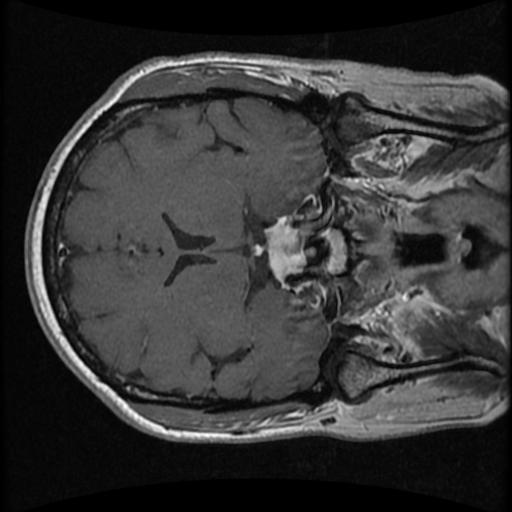pituitary tumour: (265, 216, 304, 278)
